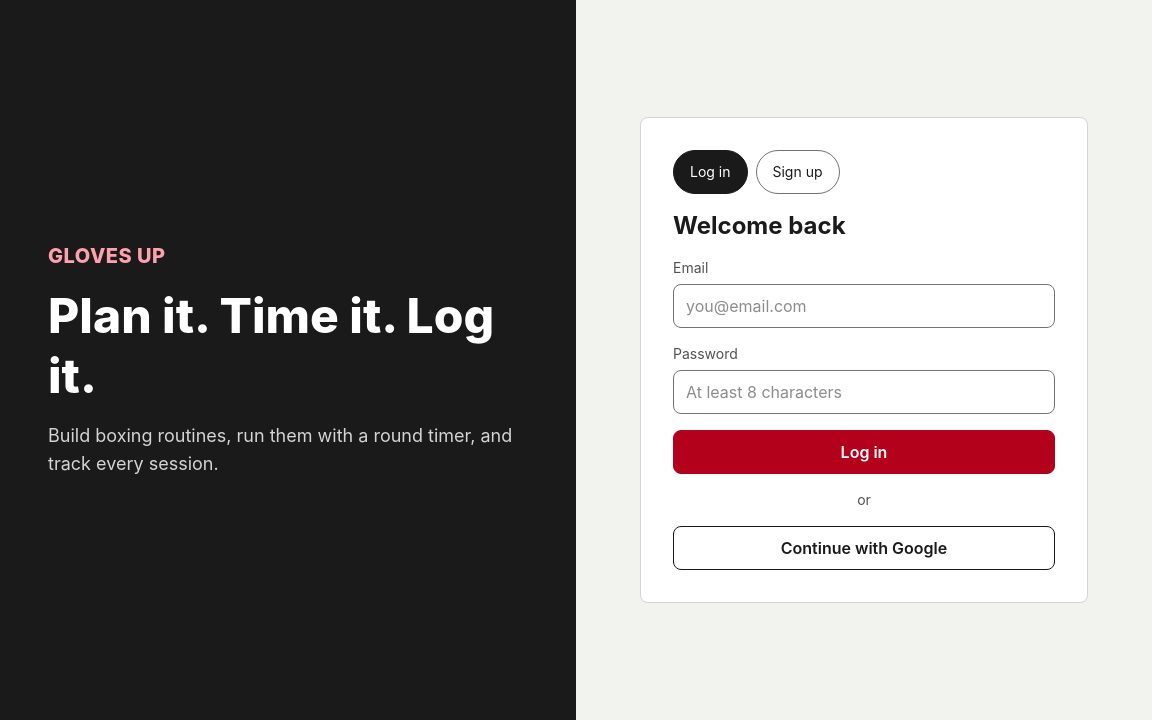
Login page › shows a friendly error when Google sign-in fails
Click the button "Continue with Google" at (864, 548), box [673, 526, 1055, 570]
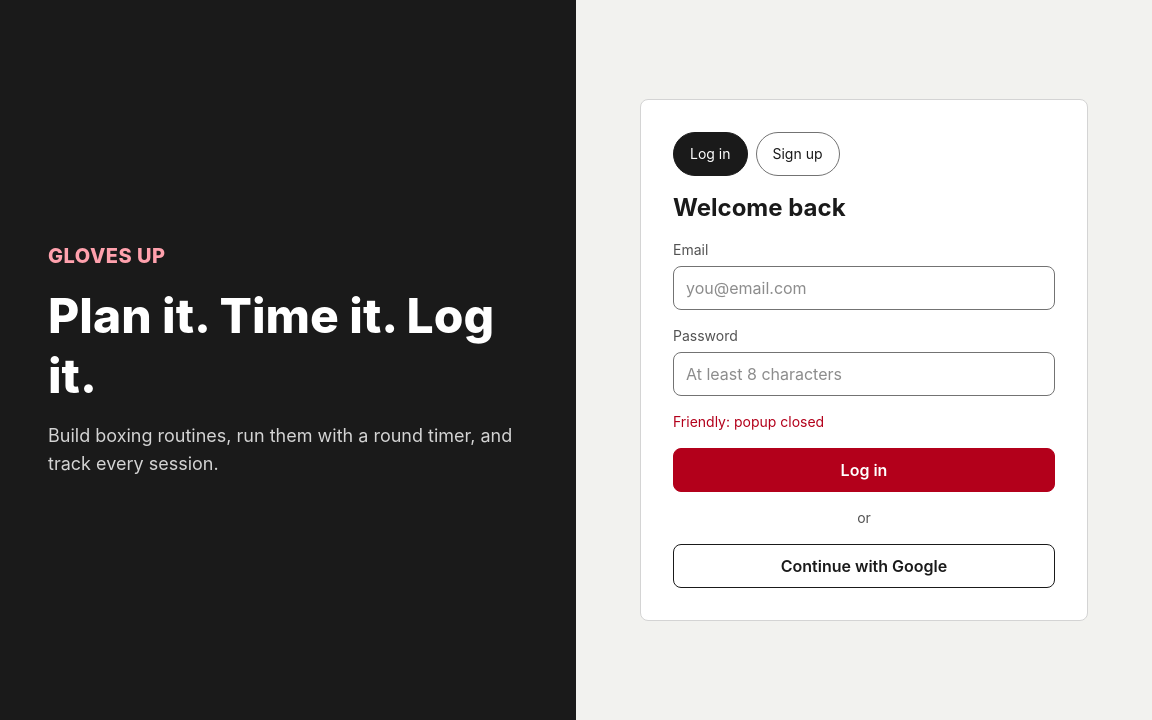
Expected: the text "Friendly: popup closed" is shown, [673, 413, 824, 430]
